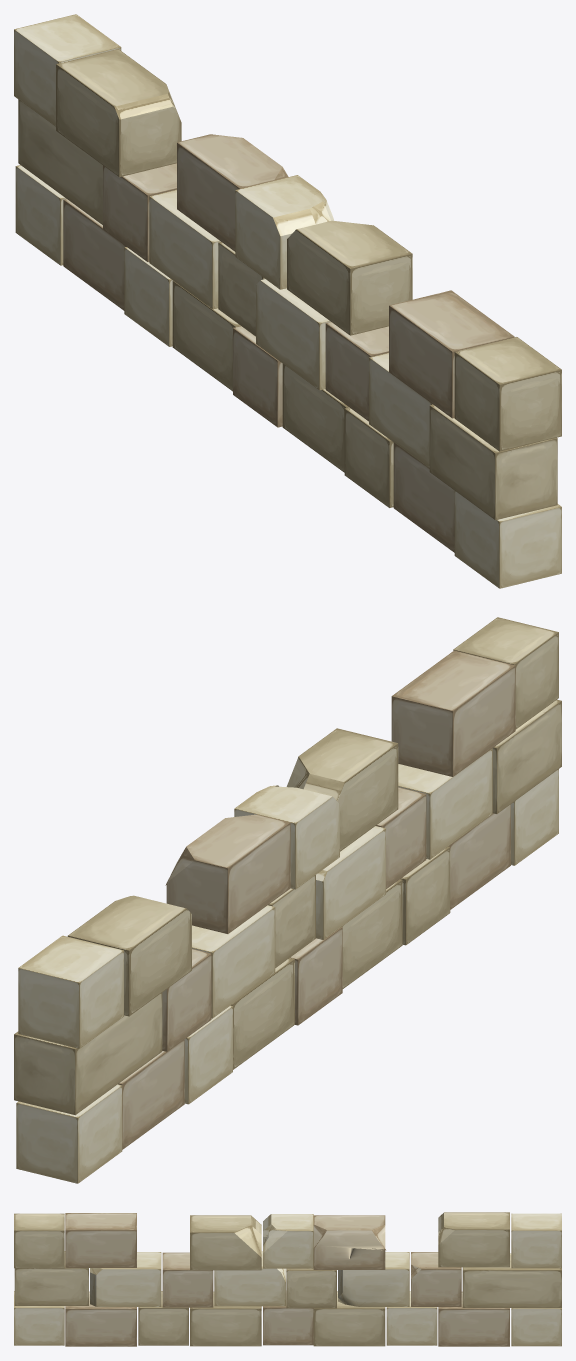
The model's file is mur_state3.FBX.
The picture shows the model from 3 angles, top to bottom: view 1: azimuth 30°, elevation 25°; view 2: azimuth 150°, elevation 25°; view 3: azimuth 270°, elevation 25°; orthographic projection. The views are drawn at different scales.
Visible parts, largest first — view 1: Box122, Box110, Box125, Box124, Box104, Box123, Box116, Box109, Box121, Box113, Box119, Box107 (+12 smaller); view 2: Box104, Box116, Box121, Box119, Box122, Box110, Box117, Box125, Box109, Box102, Box113, Box107 (+12 smaller); view 3: Box119, Box116, Box122, Box110, Box104, Box102, Box113, Box112, Box106, Box101, Box124, Box118 (+12 smaller).
Part boxes in pixels (left/top/right/bottom): Box122: left=56, top=49, right=181, bottom=177; Box110: left=287, top=220, right=412, bottom=335; Box125: left=454, top=337, right=561, bottom=451; Box124: left=429, top=404, right=557, bottom=520; Box104: left=389, top=290, right=514, bottom=418; Box123: left=454, top=491, right=561, bottom=588; Box116: left=177, top=134, right=288, bottom=251; Box109: left=235, top=175, right=334, bottom=289; Box121: left=14, top=14, right=121, bottom=126; Box113: left=149, top=189, right=220, bottom=309; Box119: left=18, top=99, right=102, bottom=224; Box107: left=256, top=279, right=330, bottom=390; Box104: left=391, top=650, right=515, bottom=776; Box116: left=165, top=814, right=290, bottom=933; Box121: left=18, top=935, right=123, bottom=1048; Box119: left=14, top=993, right=162, bottom=1115; Box122: left=67, top=895, right=191, bottom=1016; Box110: left=286, top=728, right=398, bottom=851; Box117: left=16, top=1084, right=122, bottom=1183; Box125: left=453, top=617, right=558, bottom=729; Box109: left=234, top=785, right=339, bottom=889; Box102: left=398, top=748, right=492, bottom=859; Box113: left=192, top=905, right=275, bottom=1018; Box107: left=316, top=826, right=385, bottom=939; Box119: left=462, top=1253, right=561, bottom=1307; Box116: left=313, top=1215, right=386, bottom=1269; Box122: left=438, top=1212, right=509, bottom=1267; Box110: left=190, top=1215, right=261, bottom=1270; Box104: left=65, top=1213, right=136, bottom=1267; Box102: left=90, top=1252, right=161, bottom=1306; Box113: left=338, top=1252, right=409, bottom=1306; Box112: left=313, top=1291, right=385, bottom=1346; Box106: left=190, top=1291, right=261, bottom=1346; Box101: left=65, top=1291, right=136, bottom=1346; Box124: left=14, top=1251, right=88, bottom=1305; Box118: left=438, top=1291, right=509, bottom=1346.
Size of the model in its own units: 0.179 by 0.4771 by 2.06.
